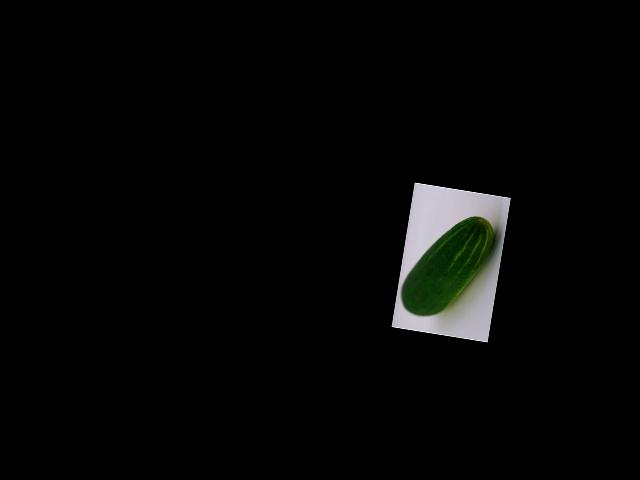cucumber: (398, 207, 496, 325)
